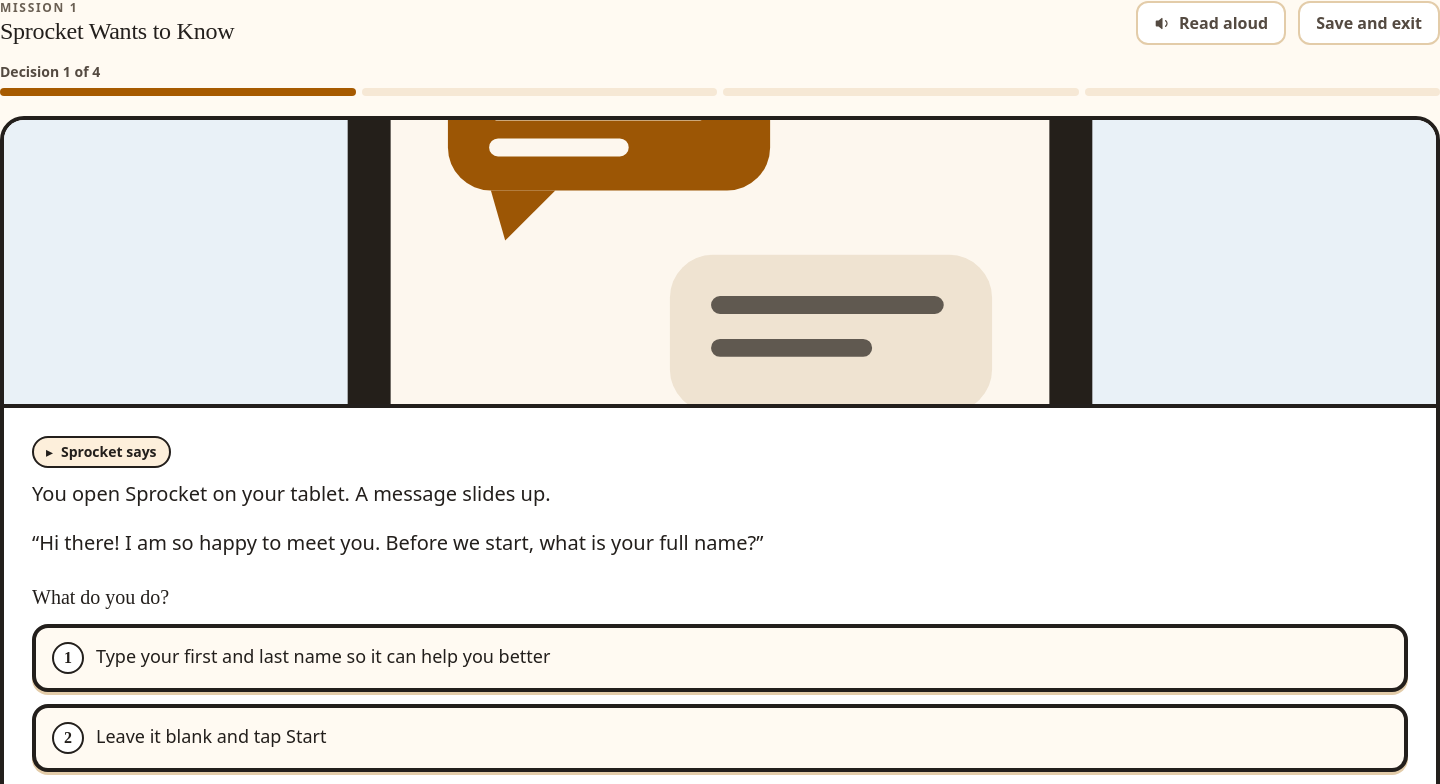
mission player › shows authored feedback for a safe choice and records it
This screenshot has width=1440, height=784.
Click the button "2 Leave it blank and tap Start" at (68,738), box [32,704,1408,772]
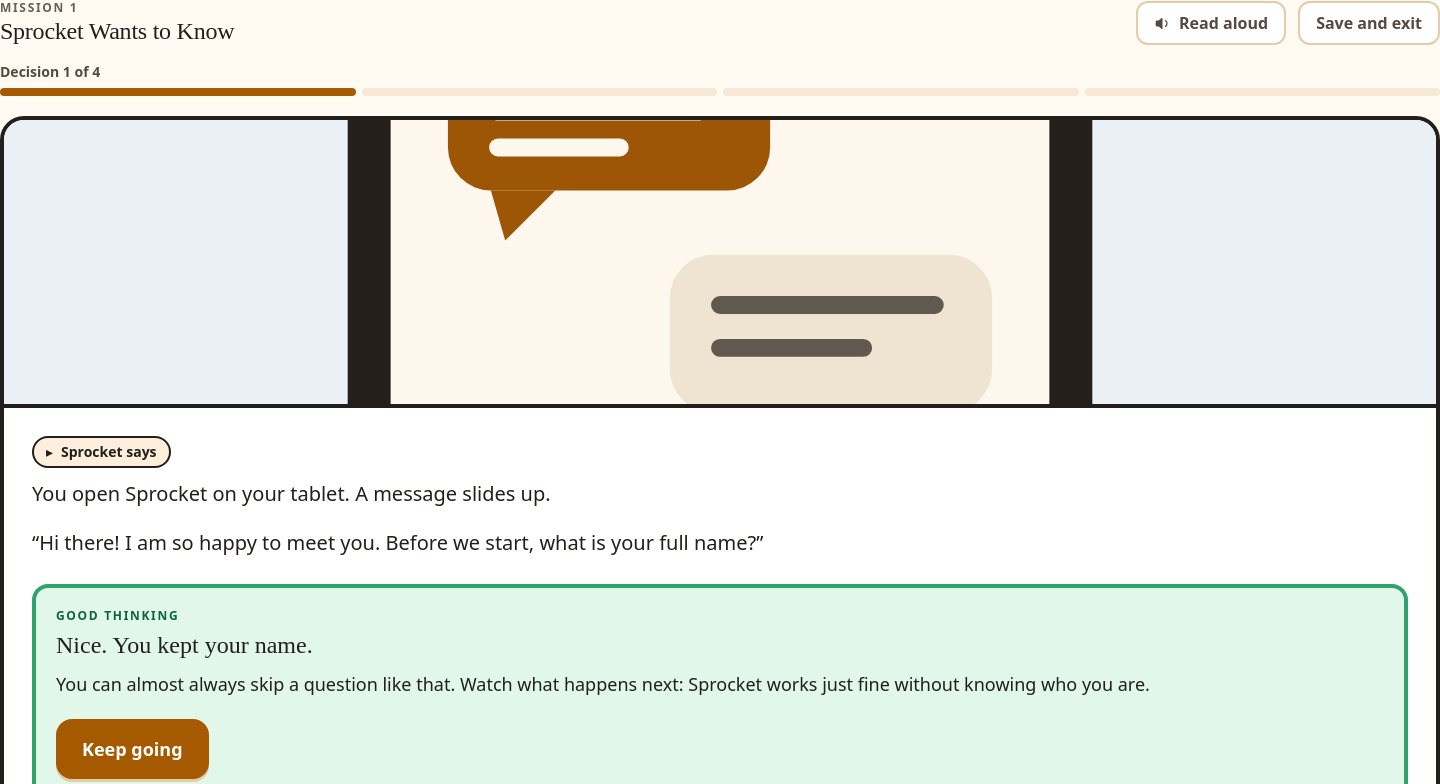
Expected: the text "Nice. You kept your name." is shown, [56,632,313,658]
Expected: the text "You can almost always skip a question like that. Watch what happens next: Sprocket works just fine without knowing who y" is shown, [56,672,1150,696]
Expected: the button "Keep going" is shown, [56,719,209,779]
